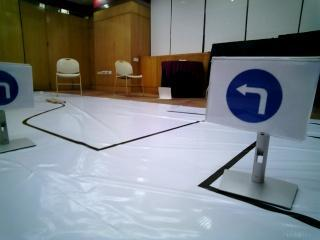left: (211, 57, 309, 132)
